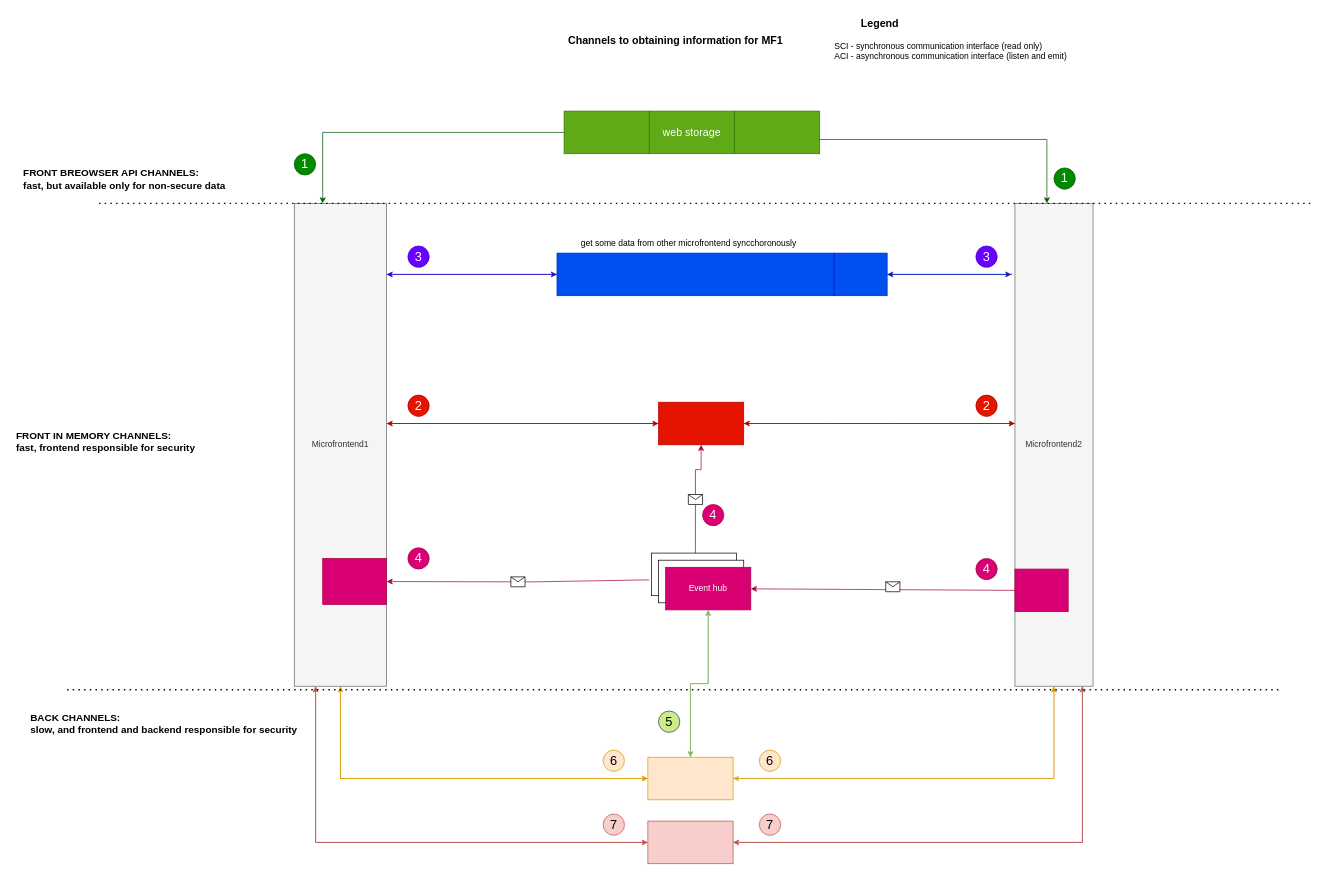
The diagram is 1327 pixels wide and 876 high, and some of its shapes have lost their labels. Each missing label, with the centre of its shape:
ACI publisher: the point at 1041,590
ACI subscriber: the point at 354,581
BACKEND REST API: the point at 690,842
BACKEND WEBSOCKETS (OR LONG POLLING): the point at 690,778
File system: the point at 777,132
Global Store: the point at 701,423
SCI: the point at 860,274
url address & parameters: the point at 606,132
window.global.microfrontend1Methods.getSomeData(publicKey?: string): the point at 695,274
